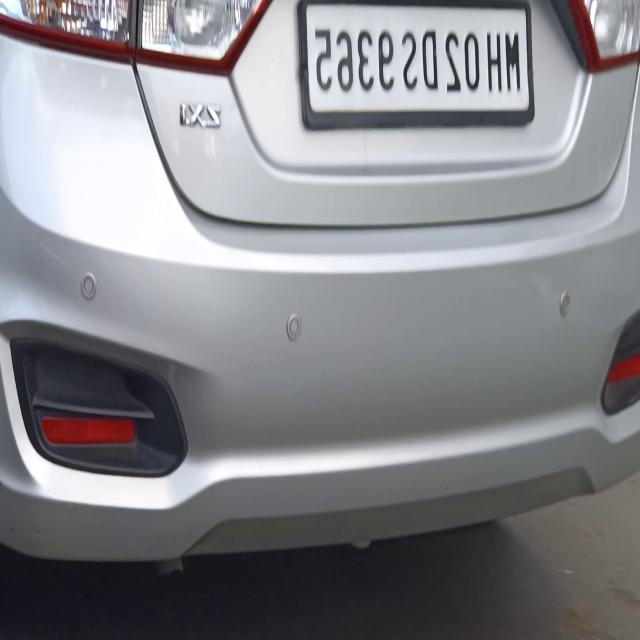license_plate: (292, 0, 539, 144)
